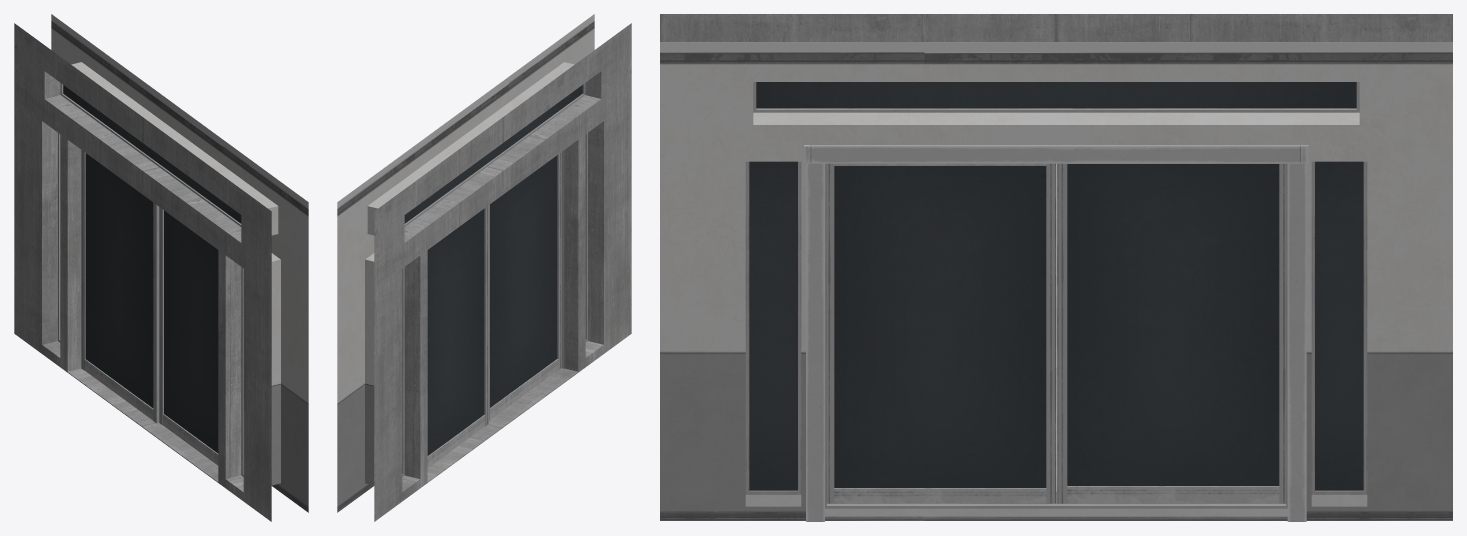
The model's file is HH_Main_Entrance.fbx.
3 renders of one model, left to right at view 1: azimuth 30°, elevation 25°; view 2: azimuth 150°, elevation 25°; view 3: azimuth 270°, elevation 25°, orthographic. The views are drawn at different scales.
Visible parts, largest first — view 1: HH_Main_Entrance_LOD0, HH_Front_Door_Glass, HH_Main_Entrance_Glass, HH_Front_Door; view 2: HH_Main_Entrance_LOD0, HH_Main_Entrance_Glass, HH_Front_Door_Glass, HH_Front_Door; view 3: HH_Main_Entrance_LOD0, HH_Main_Entrance_Glass, HH_Front_Door_Glass, HH_Front_Door.
Part boxes in pixels (box(x1,y1,x2,y2)): HH_Main_Entrance_LOD0: box(14, 14, 308, 521); HH_Front_Door_Glass: box(85, 153, 153, 407); HH_Main_Entrance_Glass: box(63, 85, 241, 453); HH_Front_Door: box(81, 150, 159, 423); HH_Main_Entrance_LOD0: box(337, 14, 631, 521); HH_Main_Entrance_Glass: box(404, 85, 582, 407); HH_Front_Door_Glass: box(427, 209, 484, 455); HH_Front_Door: box(427, 205, 488, 467); HH_Main_Entrance_LOD0: box(660, 14, 1452, 521); HH_Main_Entrance_Glass: box(749, 82, 1363, 490); HH_Front_Door_Glass: box(1067, 164, 1279, 485); HH_Front_Door: box(1057, 163, 1286, 503).
Size of what is drawn, in the model's own units: 52.39 by 400 by 600.
